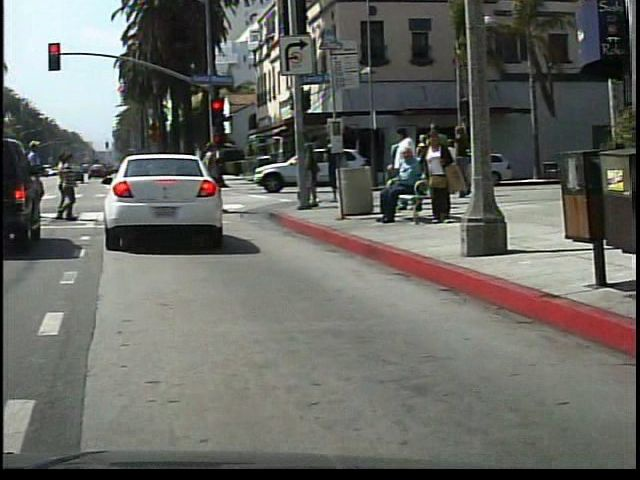person: (378, 149, 429, 227), (424, 129, 461, 227), (191, 136, 230, 220)
